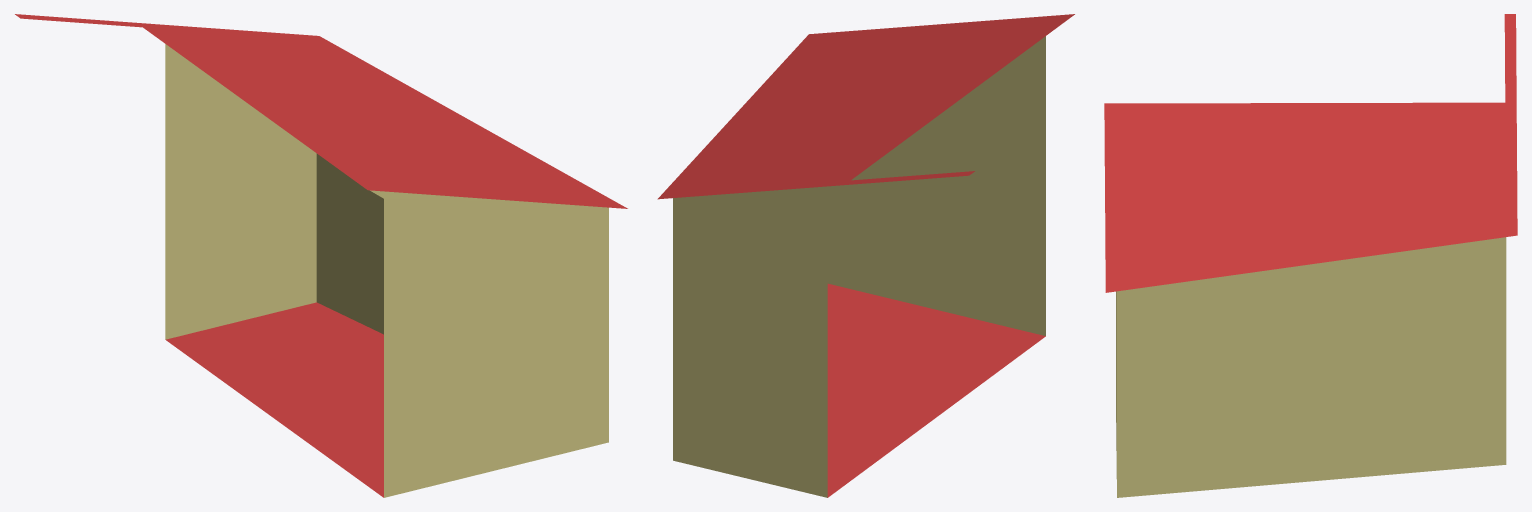
3 renders of one model, left to right at view 1: azimuth 30°, elevation 25°; view 2: azimuth 150°, elevation 25°; view 3: azimuth 270°, elevation 25°, orthographic. The views are drawn at different scales.
Size of the model in its own units: 8.78 by 9.06 by 7.76.
